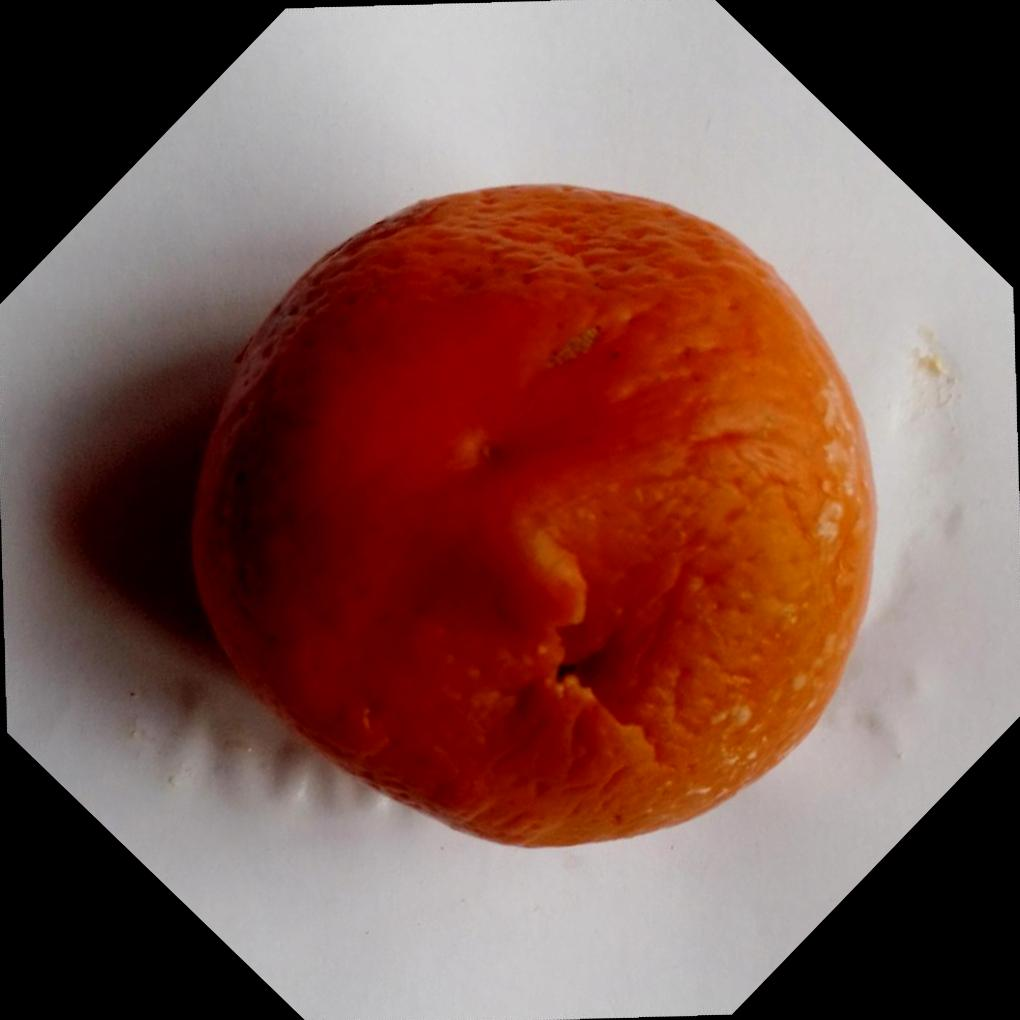FreshOrange: (188, 181, 880, 852)
